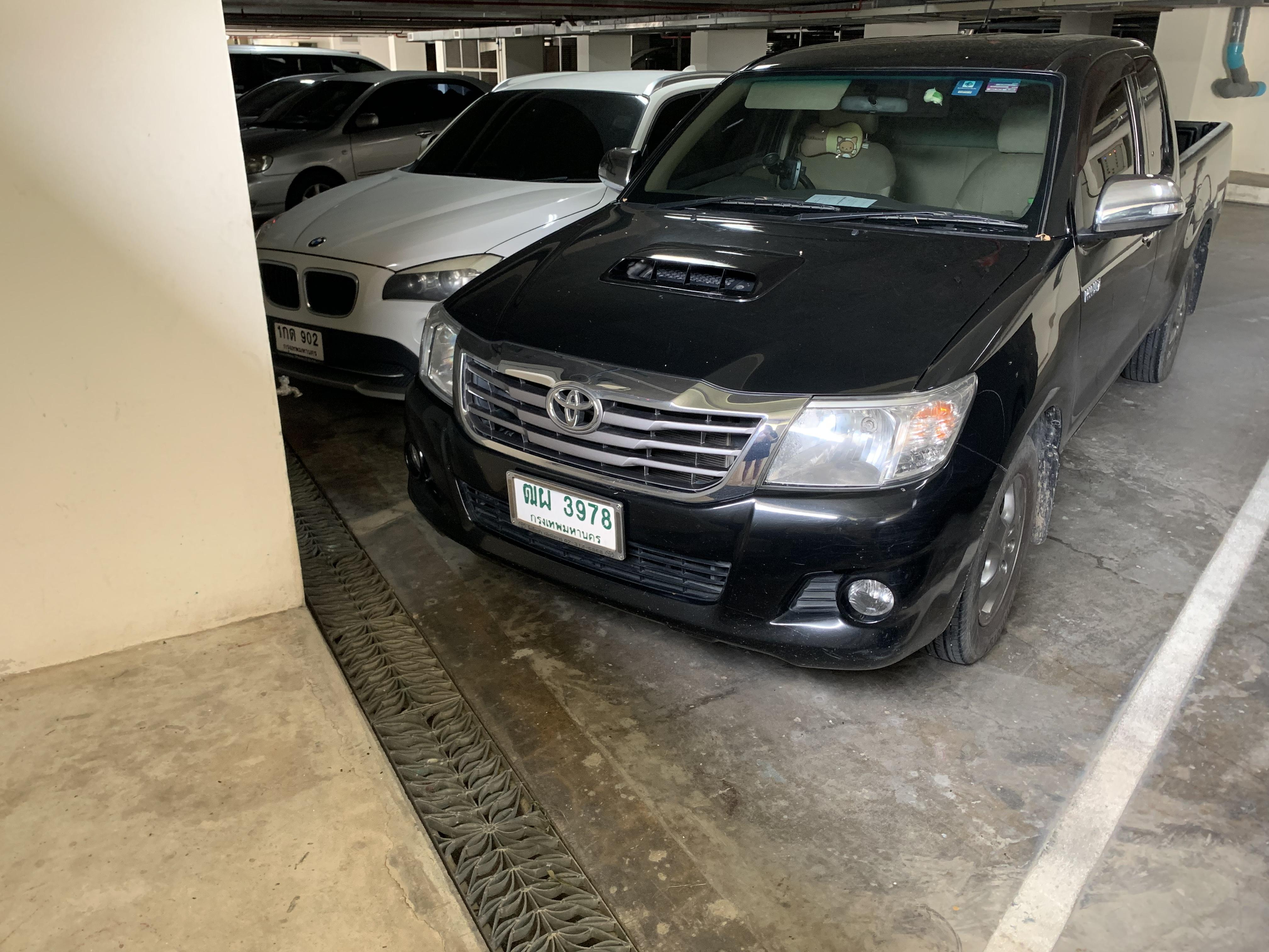license-plate: (503, 467, 629, 573), (272, 317, 328, 362)
